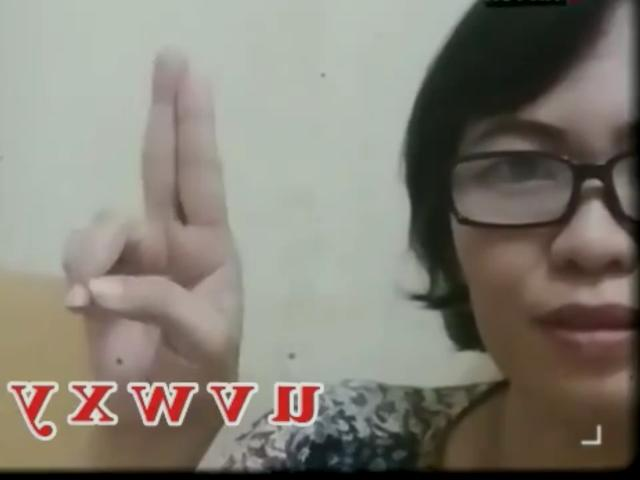U: (56, 52, 244, 376)
